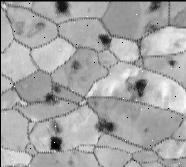good_void: (15, 20, 44, 38), (126, 79, 145, 101), (95, 118, 113, 132), (46, 119, 63, 133), (48, 136, 61, 150), (56, 1, 70, 12), (44, 93, 59, 103), (98, 34, 111, 44), (70, 59, 79, 73), (147, 1, 161, 8), (141, 125, 150, 132), (52, 85, 60, 91), (66, 159, 74, 165), (91, 99, 98, 105), (168, 60, 176, 65)
